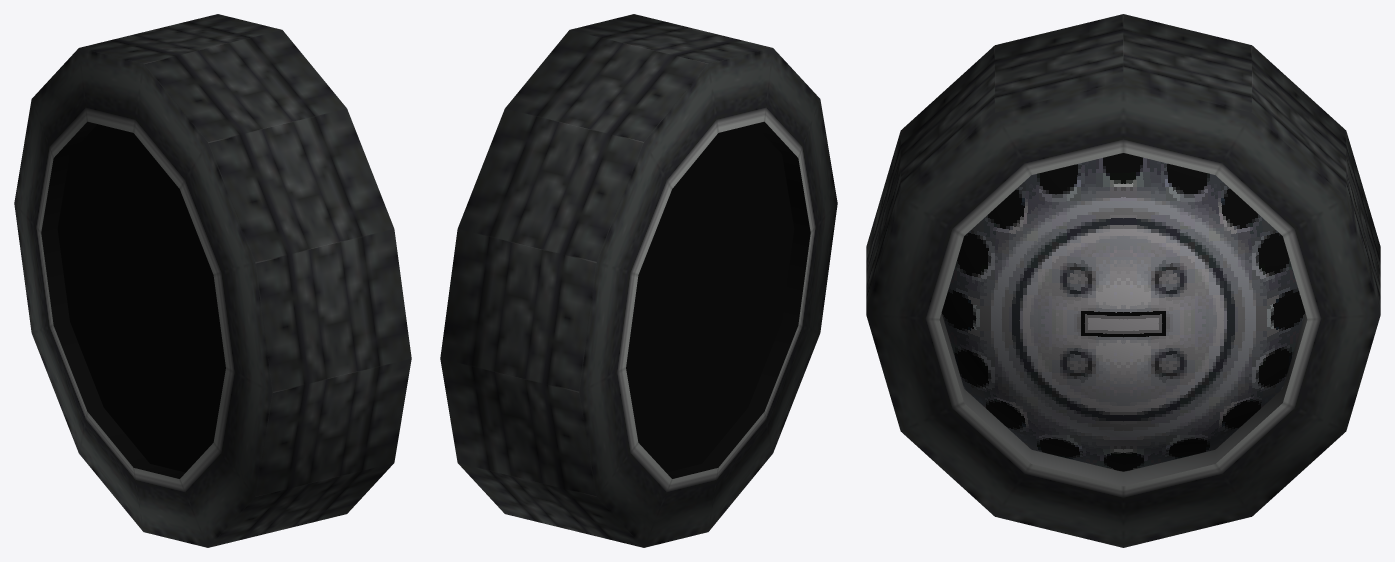
Rendered from DefaultWheel_previon.glb.
The picture shows the model from 3 angles, left to right: view 1: azimuth 30°, elevation 25°; view 2: azimuth 150°, elevation 25°; view 3: azimuth 270°, elevation 25°; orthographic projection.
Visible parts, largest first — view 1: wheel; view 2: wheel; view 3: wheel.
Boxes of the visible parts, box(x1,y1,x2,y2) form: wheel: box(14, 14, 411, 547); wheel: box(440, 14, 837, 547); wheel: box(866, 14, 1380, 547).
Bounding box in the file's own units: 0.2694 × 0.7046 × 0.7046.
4 materials, 3 textured.
